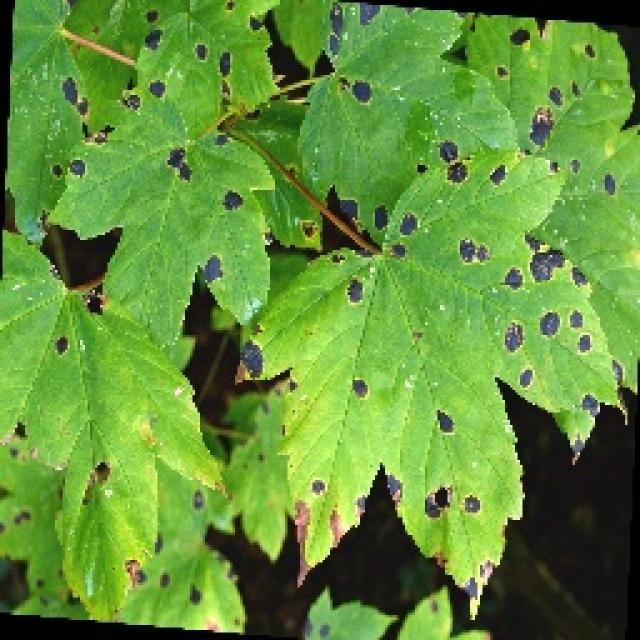Tar_Spot: (18, 12, 638, 640)
